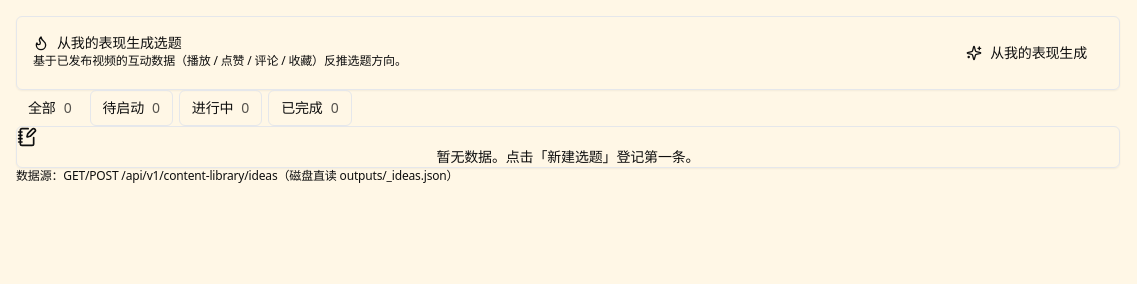
it: IdeasPage — 从我的表现生成选题（L3-2） › 有建议时渲染 title / note / heat 进度条（百分比 + progressbar 语义）
Click the button "从我的表现生成": {"x": 1027, "y": 53} [950,33,1103,73]
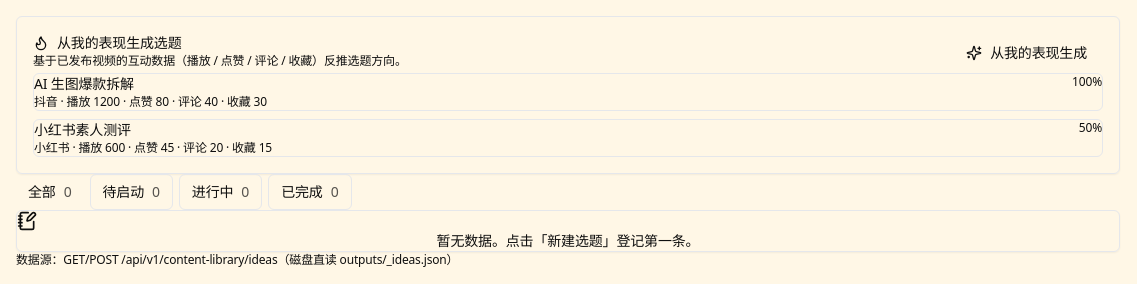
expect the text "AI 生图爆款拆解" is shown: met, box [34,74,134,93]
expect the text "小红书素人测评" is shown: met, box [34,120,131,139]
expect the text "抖音 · 播放 1200 · 点赞 80 · 评论 40 · 收藏 30" is shown: met, box [34,93,267,110]
